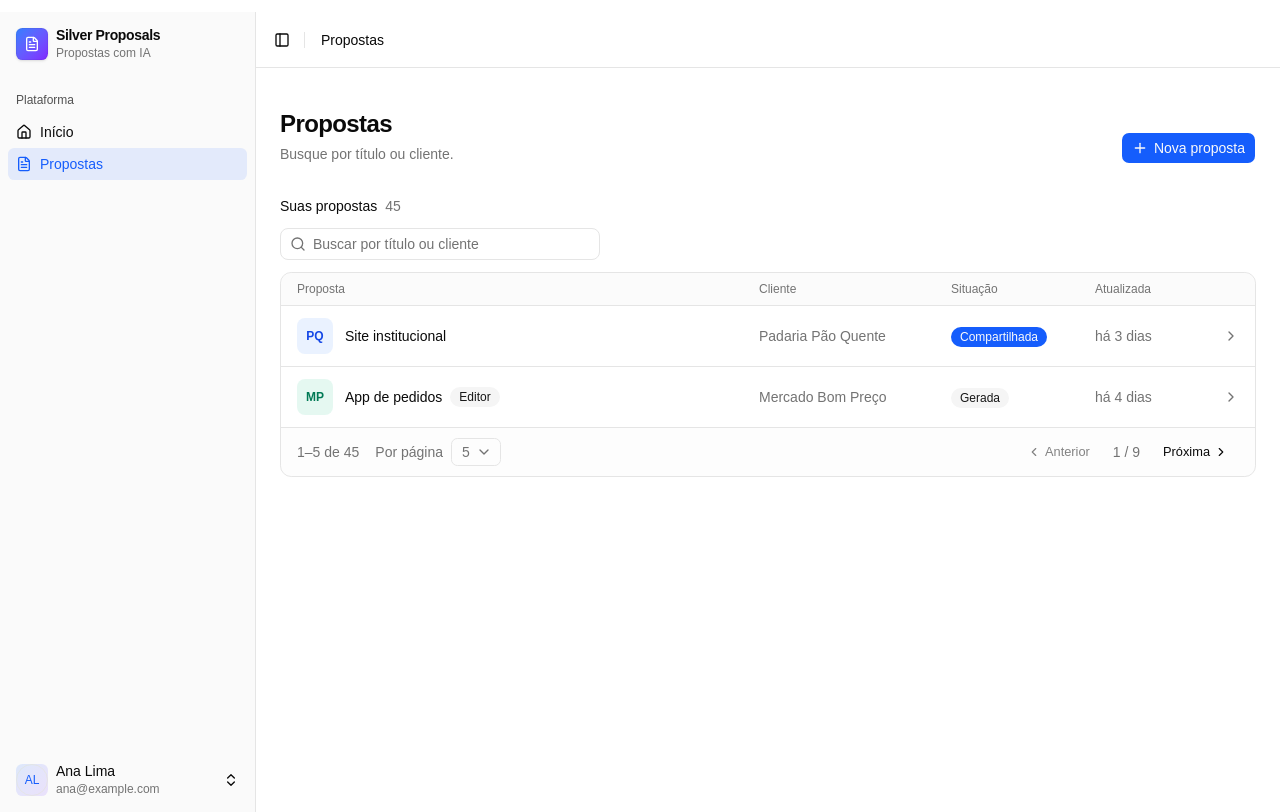
ProposalsPage › pages through the list on the server
Expected: the text "1–5 de 45" is shown, [297, 442, 359, 462]
Expected: the button "Anterior" is disabled, [1016, 438, 1101, 466]
Click the button "Próxima" at x=1196, y=452, box [1152, 438, 1239, 466]
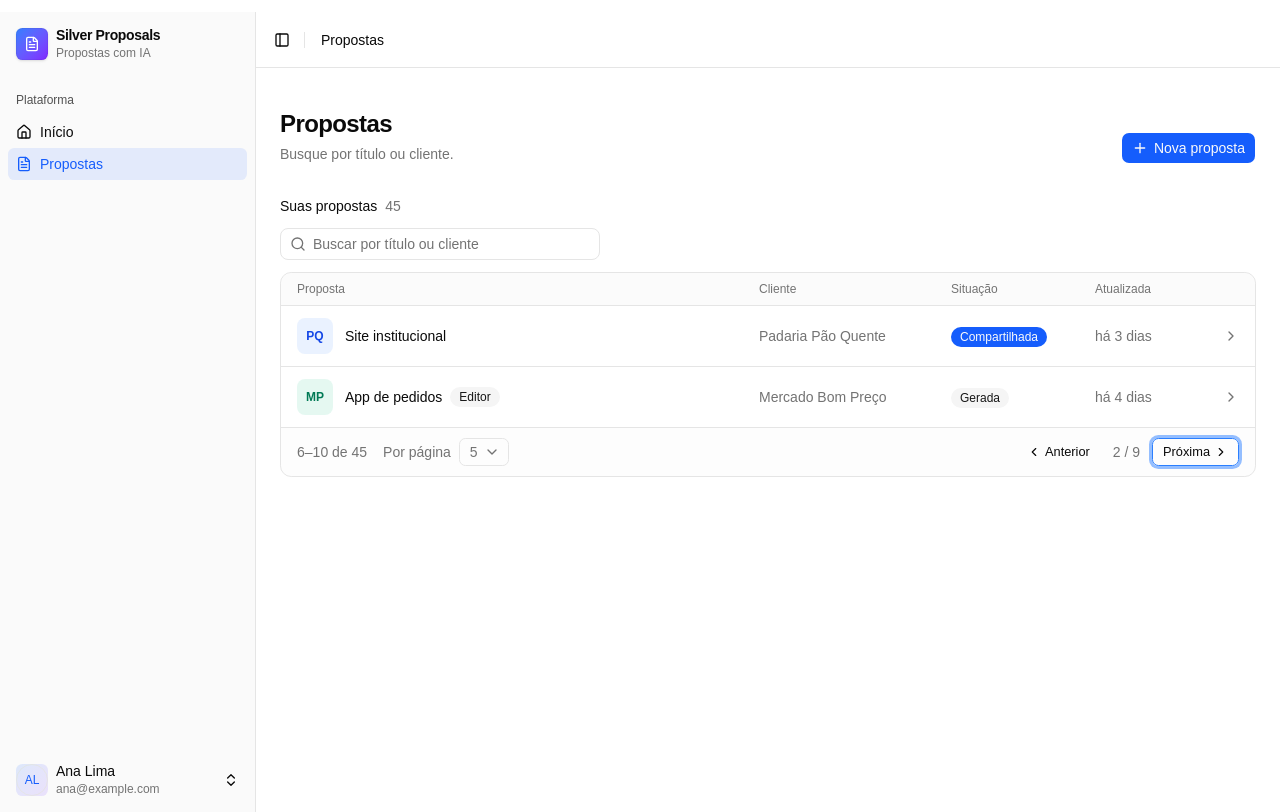
Result: the text "6–10 de 45" is shown at [297, 442, 367, 462]
